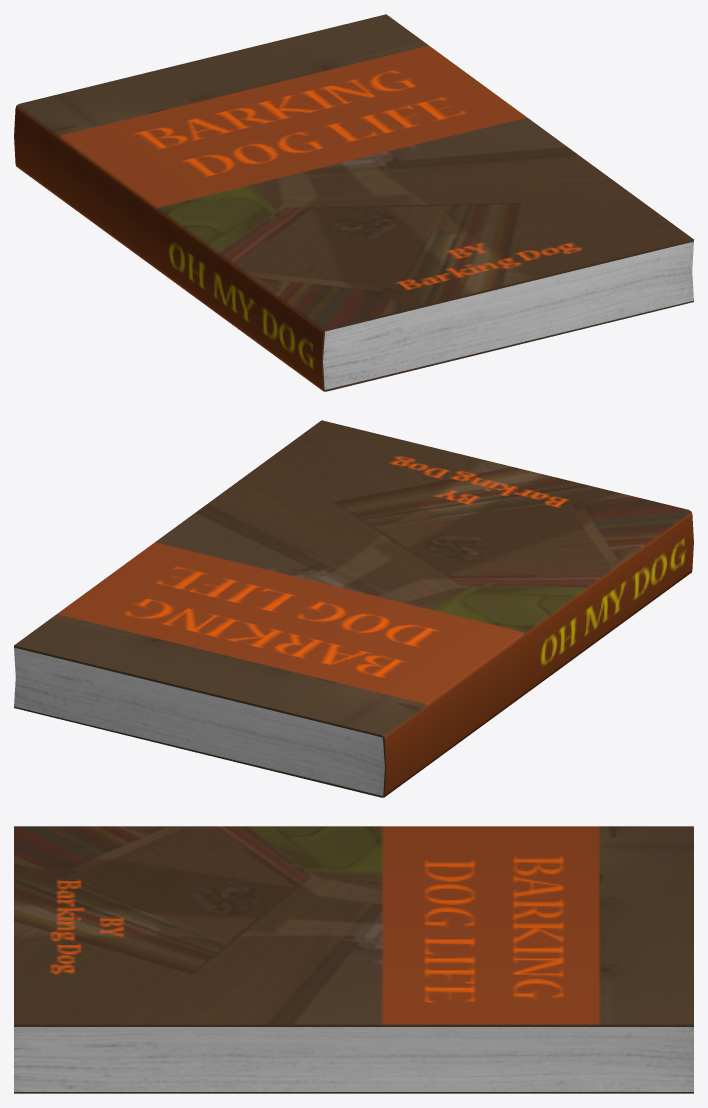
The model's file is Book_08.FBX.
3 renders of one model, top to bottom at view 1: azimuth 30°, elevation 25°; view 2: azimuth 150°, elevation 25°; view 3: azimuth 270°, elevation 25°, orthographic. The views are drawn at different scales.
Parts seen in each view (by area): view 1: Book_08; view 2: Book_08; view 3: Book_08.
Part boxes in pixels (x1,y1,x2,y2): Book_08: (14,14,693,391); Book_08: (14,420,693,797); Book_08: (14,826,693,1093).
Bounding box in the file's own units: 0.2524 × 0.0405 × 0.3613.
Materials: 1 (1 with a texture image).
